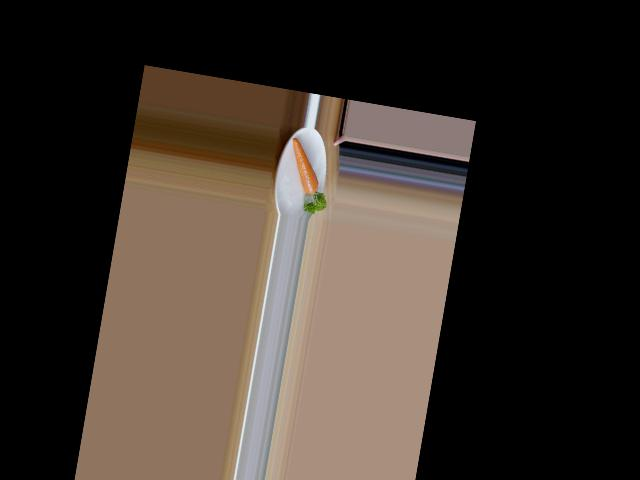carrot: (283, 135, 328, 201)
